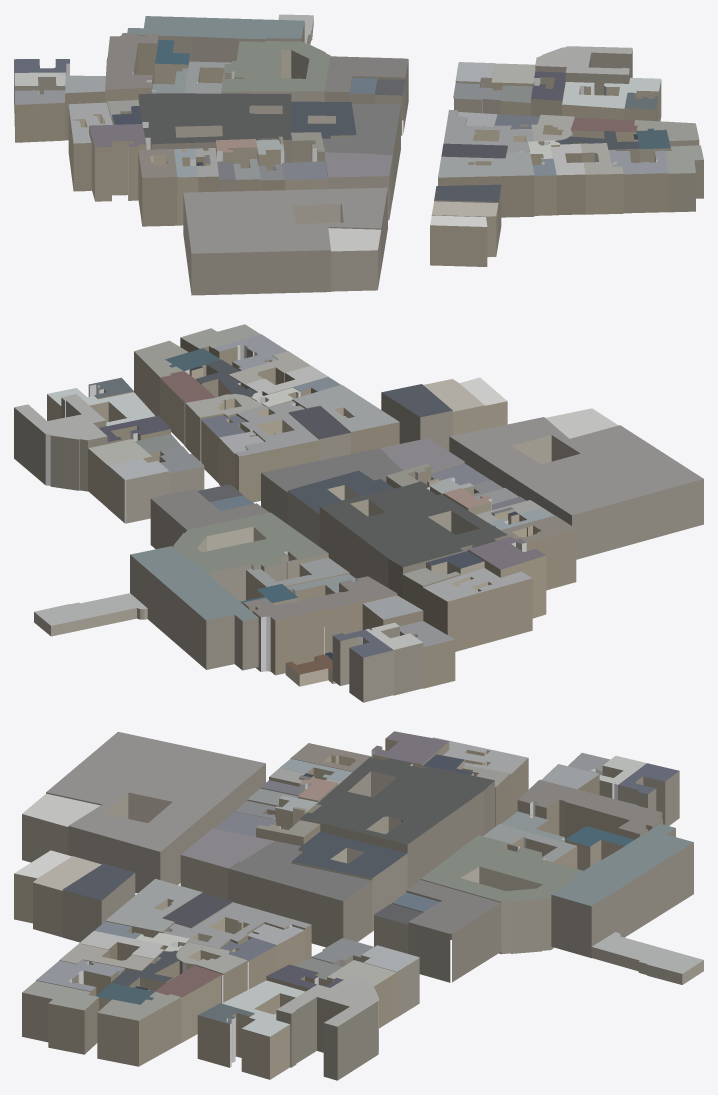
The picture shows the model from 3 angles, top to bottom: view 1: azimuth 30°, elevation 25°; view 2: azimuth 150°, elevation 25°; view 3: azimuth 270°, elevation 25°; orthographic projection. The views are drawn at different scales.
Parts seen in each view (by area): view 1: tuile; view 2: tuile; view 3: tuile.
Part boxes in pixels (left/top/right/bottom): tuile: left=14, top=14, right=703, bottom=295; tuile: left=14, top=324, right=703, bottom=702; tuile: left=14, top=731, right=703, bottom=1080.
Size of the model in its own units: 290 by 31.67 by 281.
